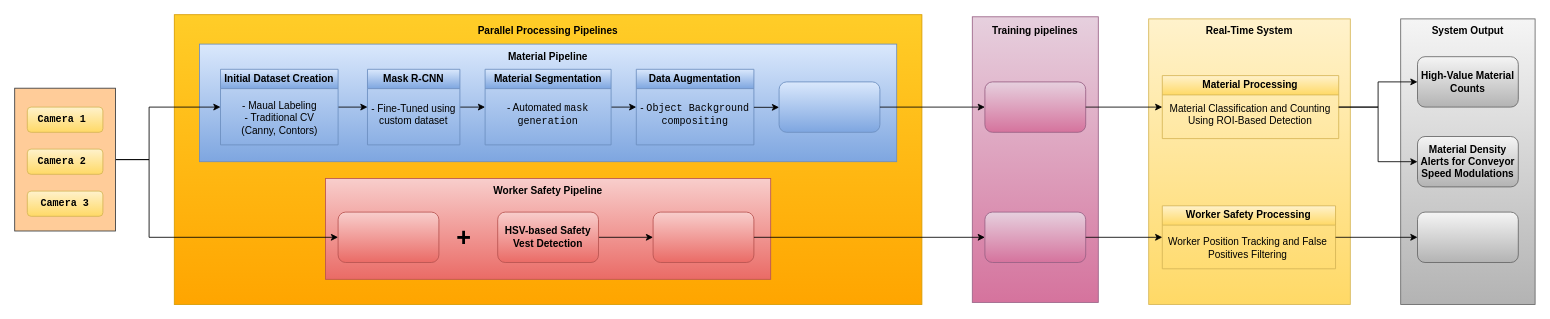
The diagram is 1550 pixels wide and 319 high, and some of its shapes have lost their labels. Here are the shapes that lost their labels. From the top down, the centre of each, then its label:
pixel 829 106: Material Dataset Creation
pixel 1035 106: YOLOv5 Material Detection Training
pixel 388 236: Person Detection (using Yolov5)
pixel 703 236: Worker Dataset Generation
pixel 1035 236: YOLOv5 Worker Detection Training
pixel 1467 236: Worker Safety Monitoring
